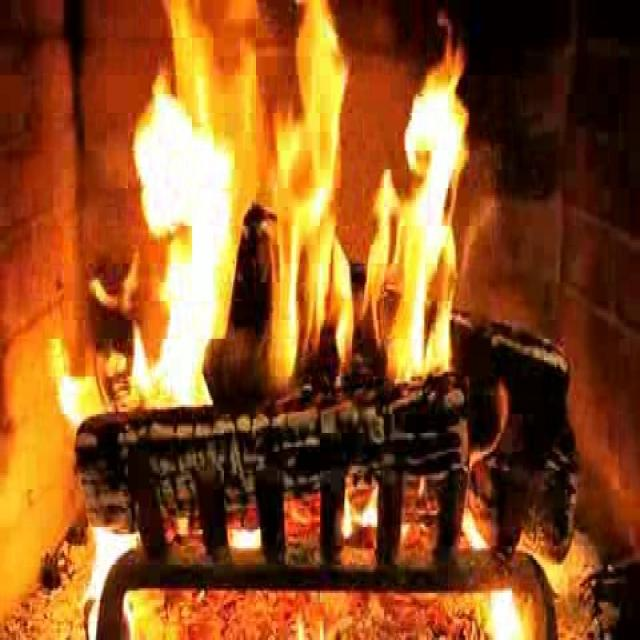fire: (114, 7, 470, 389)
